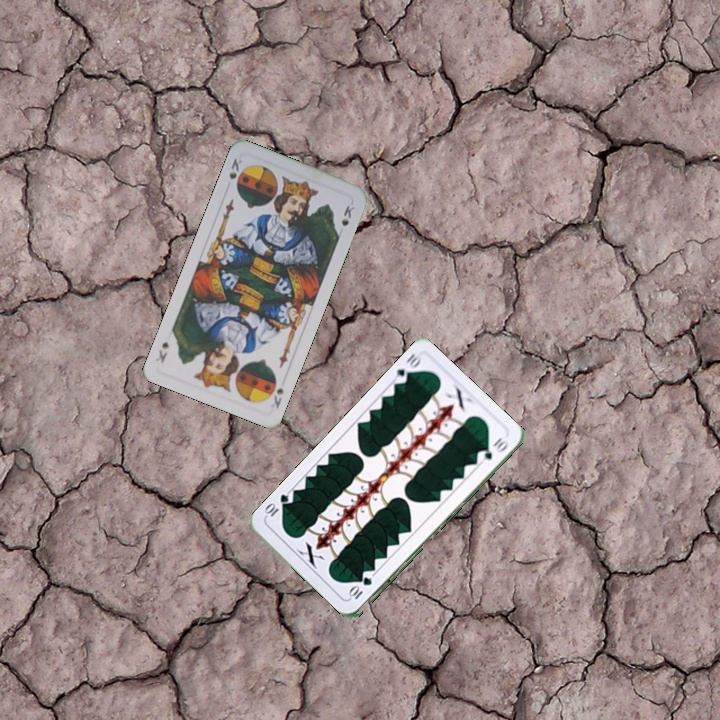G10: (389, 350, 423, 387), (346, 573, 375, 602)
SK: (265, 382, 286, 412), (225, 154, 245, 182)
